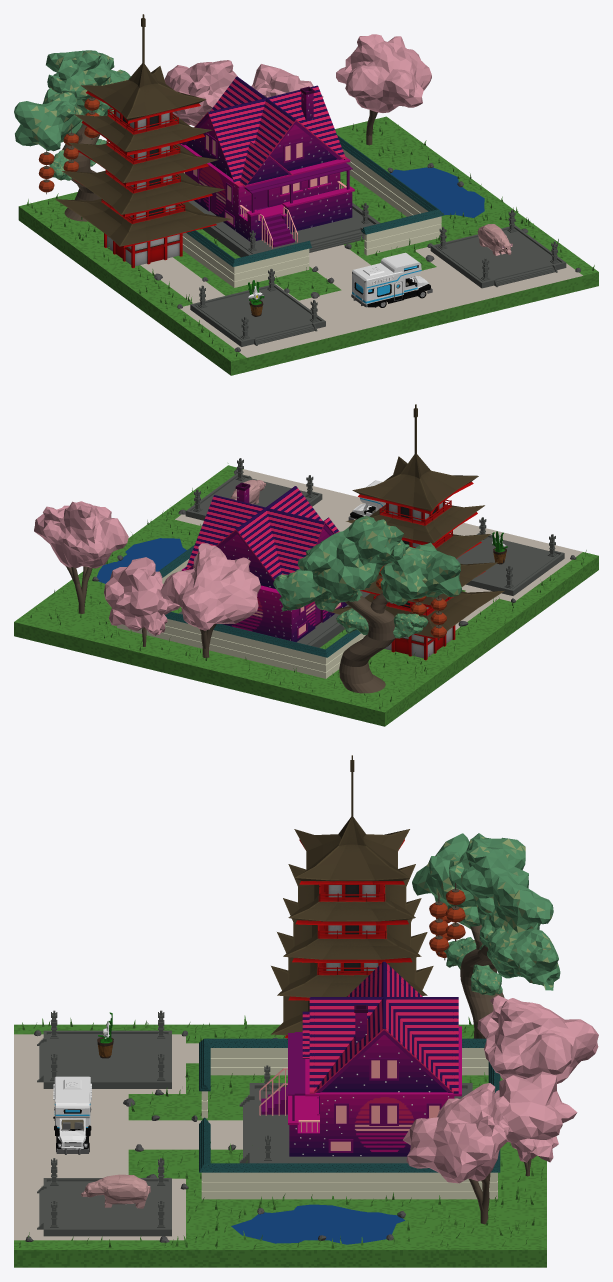
3 views of the same model, one above another, from view 1: azimuth 30°, elevation 25°; view 2: azimuth 150°, elevation 25°; view 3: azimuth 270°, elevation 25° (orthographic). The views are drawn at different scales.
Parts seen in each view (by area): view 1: Cube.005, Cube.156, VEHICLES_CAMPER, ANIMAL_HIPOPOTAMO; view 2: Cube.005, Cube.156, VEHICLES_CAMPER; view 3: Cube.005, Cube.156, VEHICLES_CAMPER, ANIMAL_HIPOPOTAMO.
Part boxes in pixels (box(x1,y1,x2,y2)): Cube.005: box(14, 14, 598, 375); Cube.156: box(179, 76, 354, 248); VEHICLES_CAMPER: box(351, 252, 432, 307); ANIMAL_HIPOPOTAMO: box(477, 224, 512, 255); Cube.005: box(14, 404, 598, 726); Cube.156: box(181, 482, 347, 642); VEHICLES_CAMPER: box(348, 480, 385, 520); Cube.005: box(14, 755, 598, 1267); Cube.156: box(259, 961, 461, 1156); VEHICLES_CAMPER: box(53, 1076, 91, 1154); ANIMAL_HIPOPOTAMO: box(81, 1174, 150, 1208).
Size of the model in its own units: 4528 by 2690 by 4389.
Materials: 41 (7 with a texture image).
